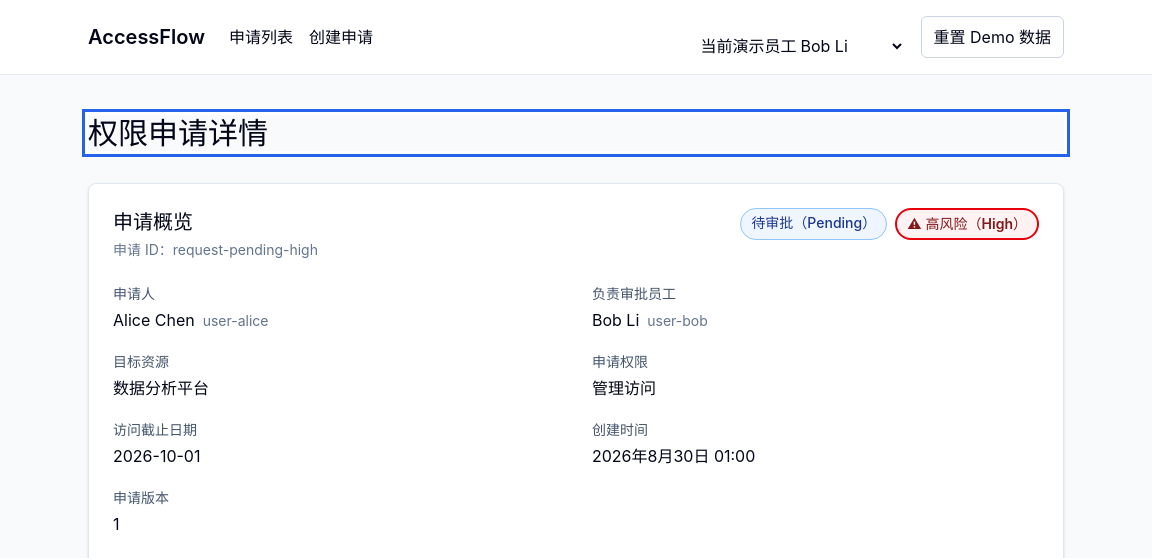
Scenario: AppShell Demo 数据重置 › 成功后只清除全部 AccessFlow 领域缓存、恢复默认员工并导航到列表
Expected: the heading "权限申请详情" is shown, [88, 115, 1064, 151]
Click the button "重置 Demo 数据" at (992, 37), box [920, 16, 1064, 58]
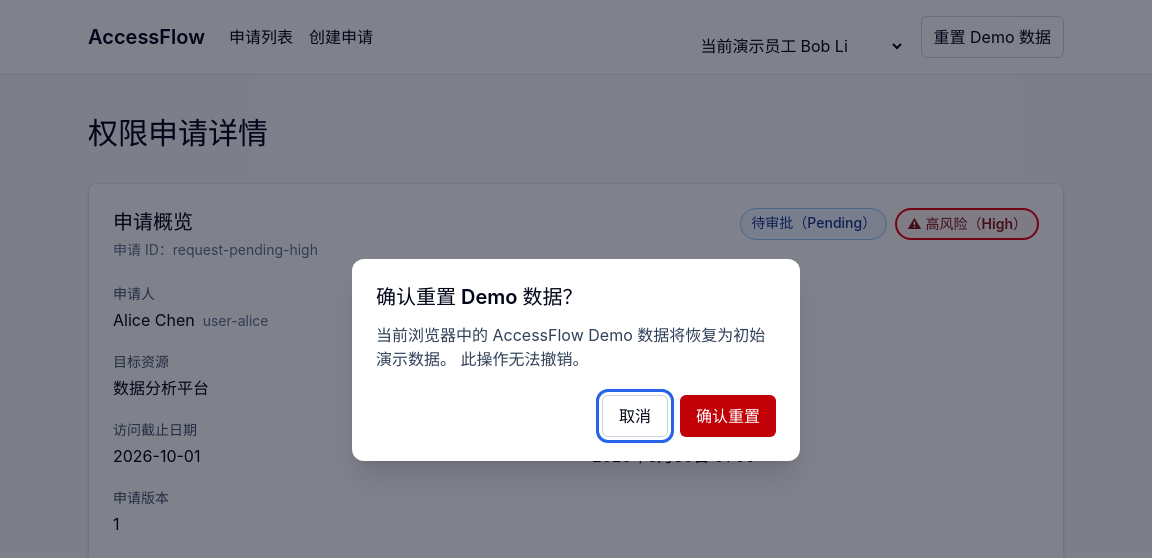
Click the button "确认重置" at (728, 416), box [680, 395, 776, 437]
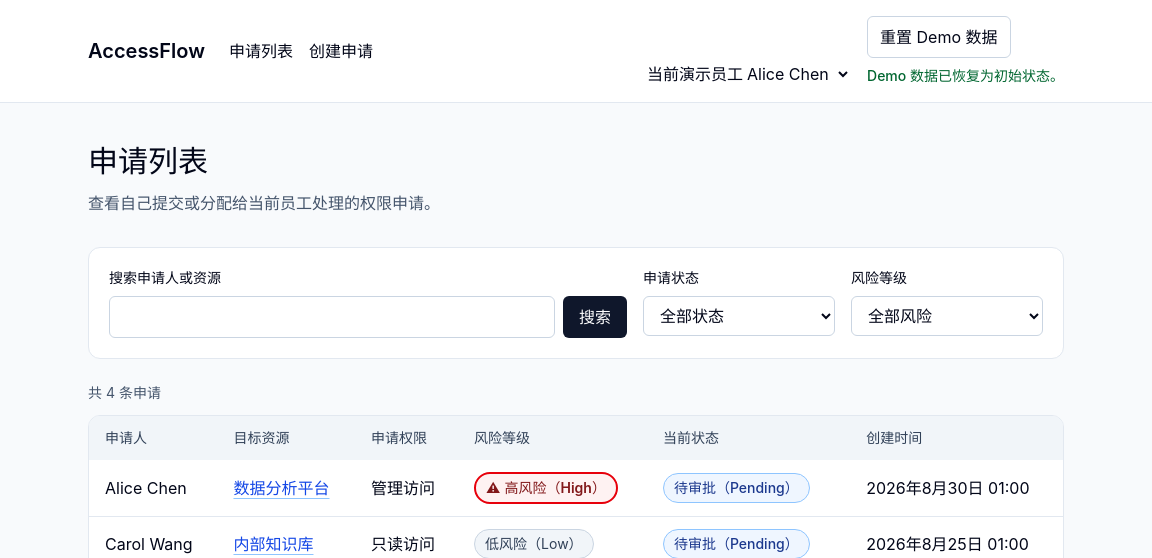
Expected: the heading "申请列表" is shown, [88, 143, 208, 179]
Expected: the dropdown labelled "当前演示员工" shows "Alice Chen", [743, 63, 851, 85]
Expected: the message reads "Demo 数据已恢复为初始状态。", [867, 67, 1064, 84]
Click the link "创建申请" at (341, 51), box [309, 39, 373, 63]
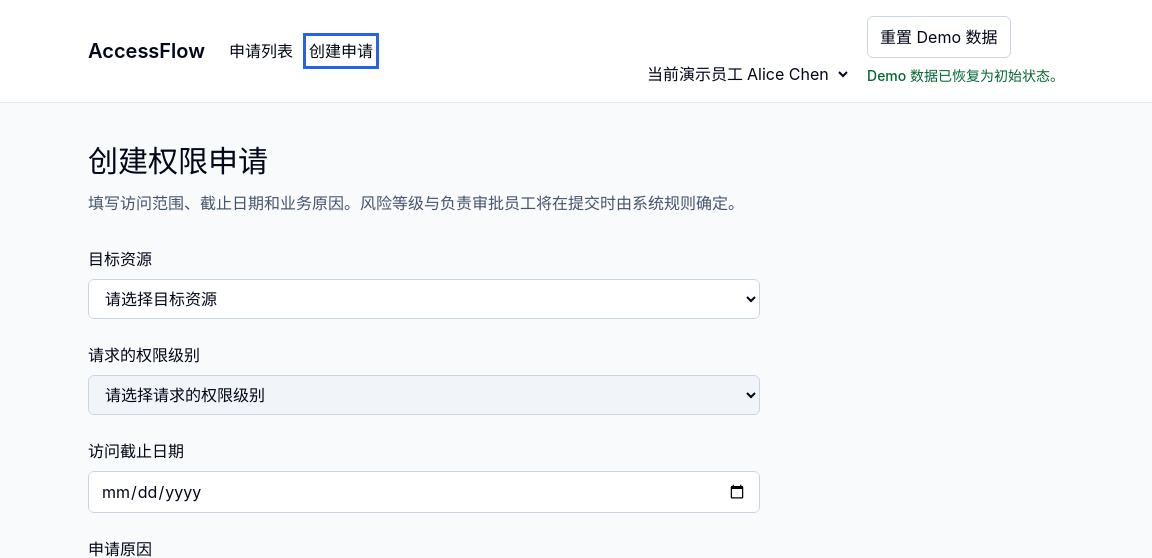
Expected: the heading "创建权限申请" is shown, [88, 143, 268, 179]
